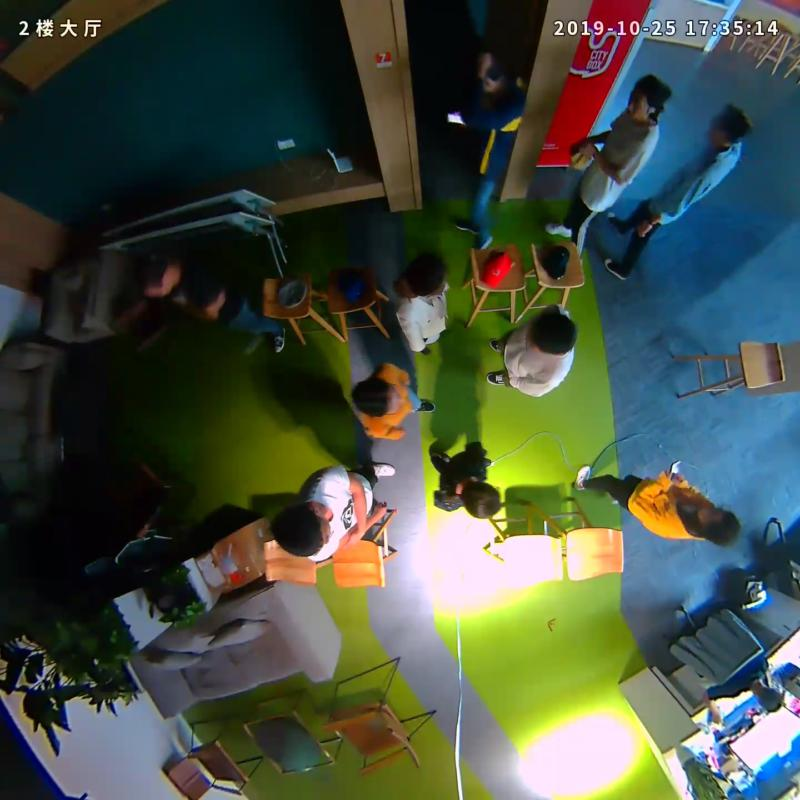head: (271, 501, 332, 557), (625, 73, 673, 125), (691, 500, 742, 547), (462, 40, 503, 93), (134, 249, 178, 298), (527, 314, 578, 355), (352, 377, 402, 416), (705, 104, 750, 147), (404, 254, 447, 298), (458, 481, 502, 519)
